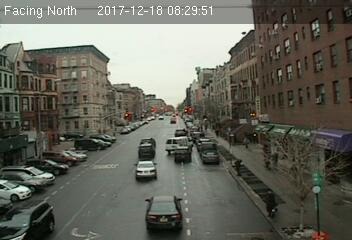car: (143, 195, 186, 230), (134, 159, 157, 180), (138, 143, 155, 162), (173, 145, 191, 162), (201, 150, 220, 162)
pedestrian: (262, 186, 280, 221), (234, 158, 243, 181)
